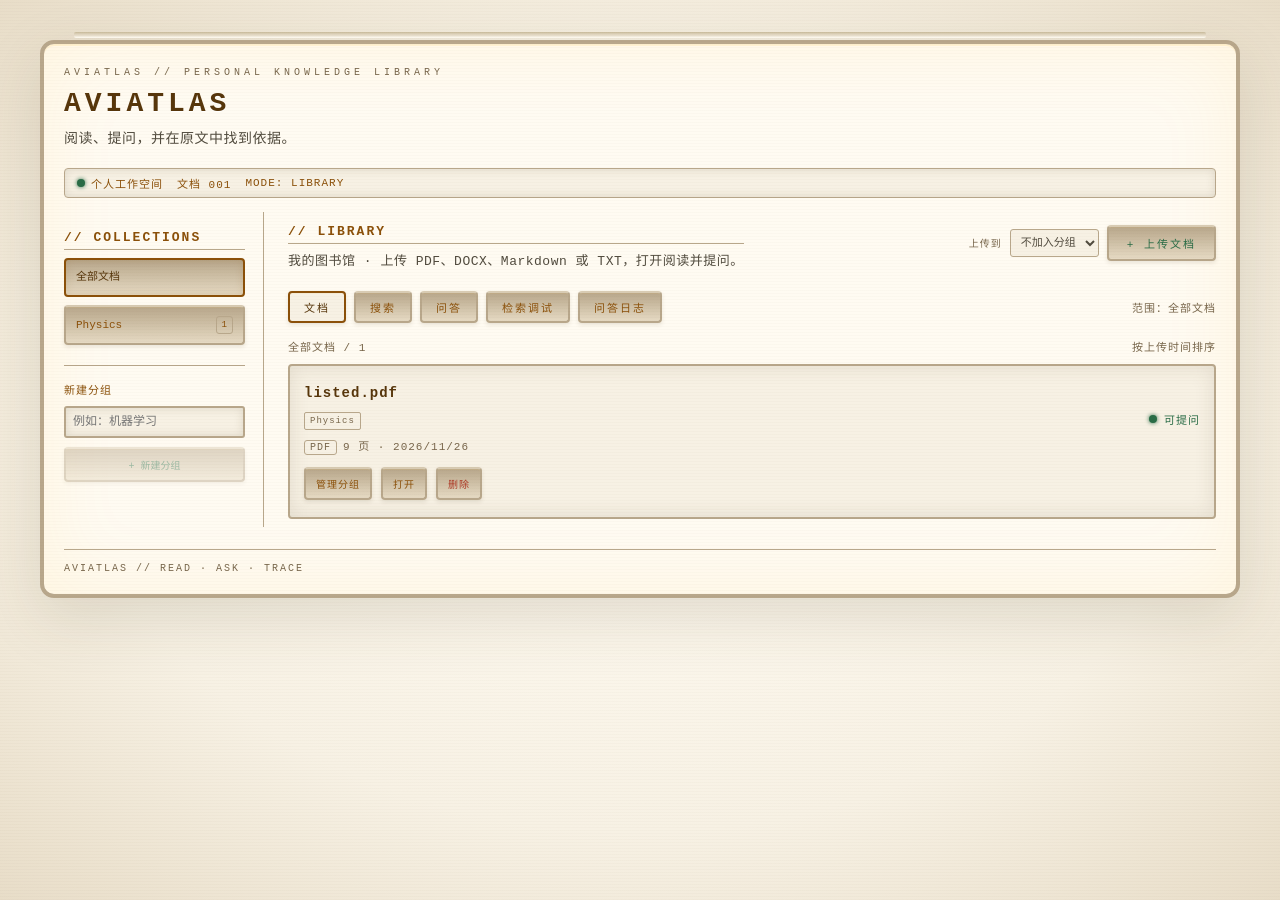
Test: asks within the active collection and opens cited sources
Later steps or results of the test are not shown.
Click the button "Physics 1".
click(154, 325)  # box [64,305,245,345]
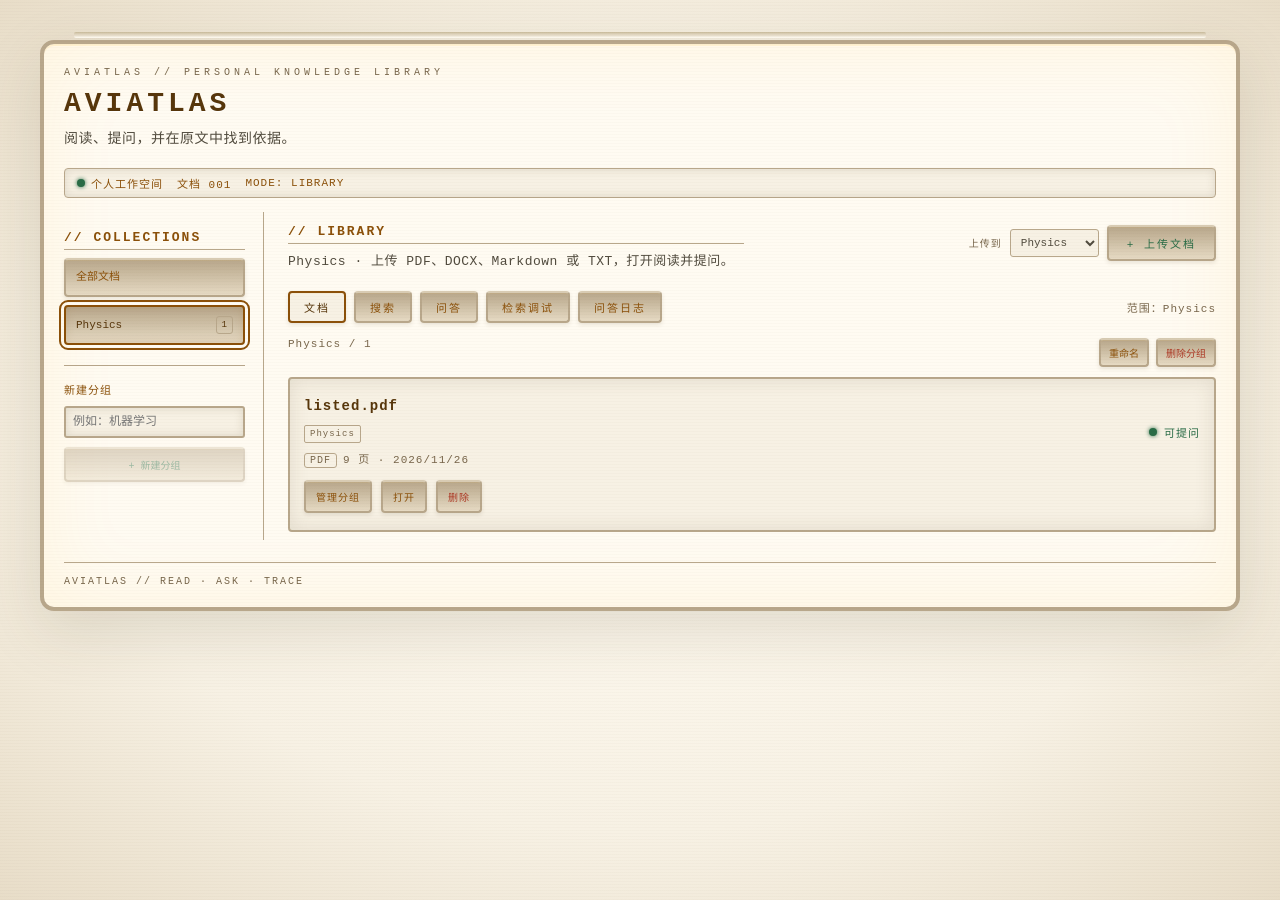
Click the tab "问答".
click(449, 307)  # box [420,291,478,323]
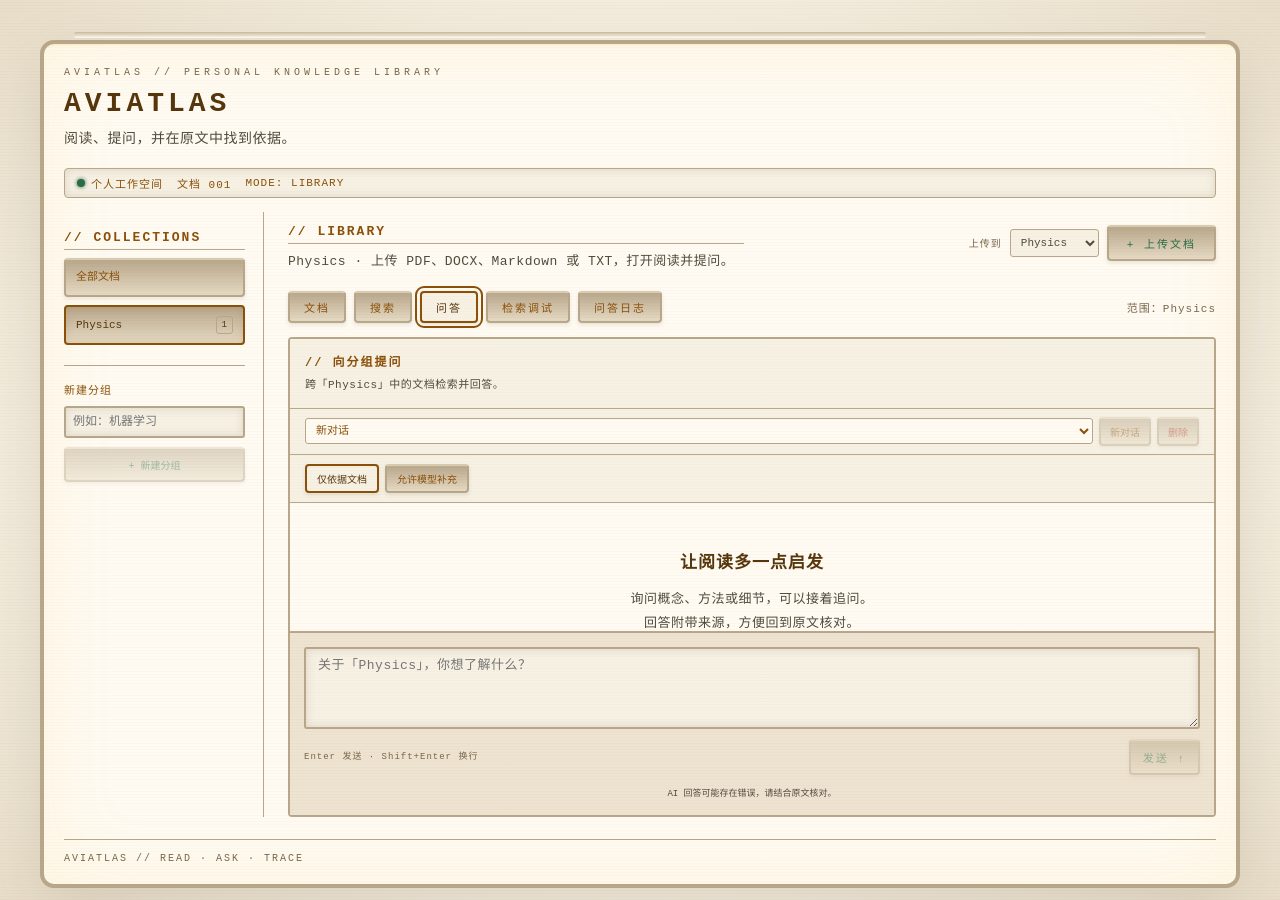
Now the text "范围：Physics" is shown, box [1127,299,1216,315]
